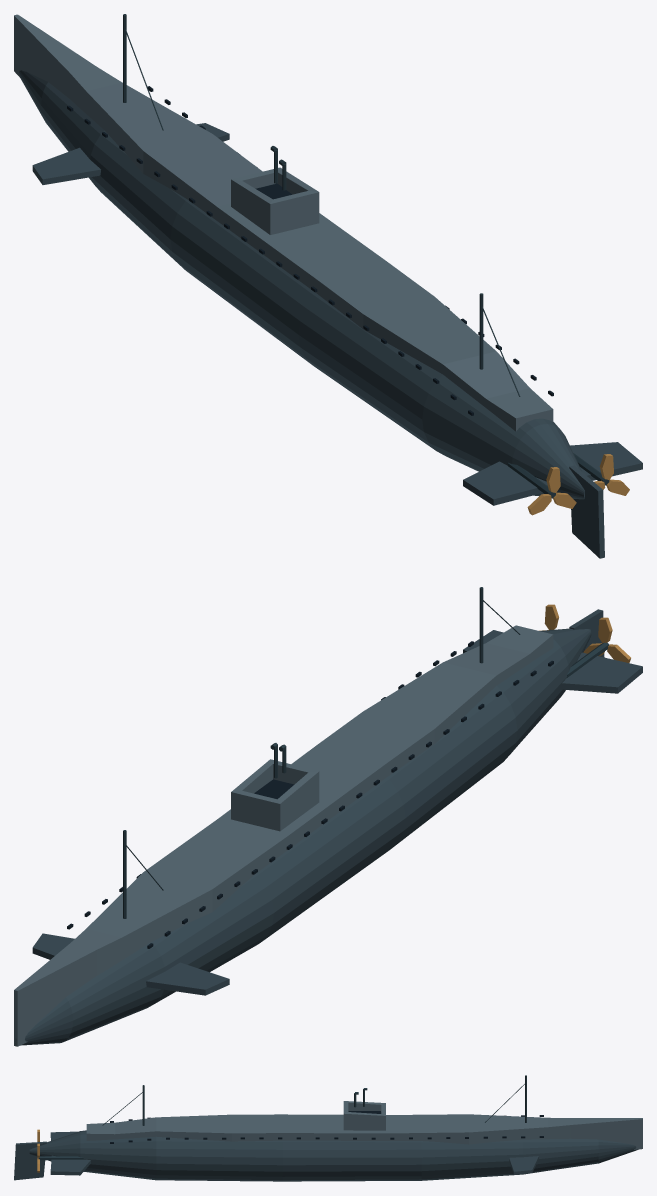
The model's file is archive-u9.glb.
The picture shows the model from 3 angles, top to bottom: view 1: azimuth 30°, elevation 25°; view 2: azimuth 150°, elevation 25°; view 3: azimuth 270°, elevation 25°; orthographic projection. The views are drawn at different scales.
Visible parts, largest first — view 1: archive-u9-pressure_hull-geometry, archive-u9-cruise_deck-geometry, archive-u9-submarine_sail-geometry, archive-u9-steering_rudder_0-geometry, archive-u9-archive-u9-geometry, archive-u9-stern_plane_-1-geometry, archive-u9-diving_plane_-1-geometry, archive-u9-stern_plane_1-geometry, archive-u9-screw_0-geometry, archive-u9-screw_1-geometry; view 2: archive-u9-pressure_hull-geometry, archive-u9-cruise_deck-geometry, archive-u9-submarine_sail-geometry, archive-u9-stern_plane_-1-geometry, archive-u9-archive-u9-geometry, archive-u9-diving_plane_-1-geometry, archive-u9-screw_0-geometry, archive-u9-diving_plane_1-geometry; view 3: archive-u9-pressure_hull-geometry, archive-u9-cruise_deck-geometry, archive-u9-submarine_sail-geometry, archive-u9-steering_rudder_0-geometry, archive-u9-archive-u9-geometry, archive-u9-stern_plane_1-geometry, archive-u9-diving_plane_1-geometry, archive-u9-screw_1-geometry.
Part boxes in pixels (<box>): archive-u9-pressure_hull-geometry: <box>19,70,584,499</box>; archive-u9-cruise_deck-geometry: <box>14,14,553,431</box>; archive-u9-submarine_sail-geometry: <box>231,146,319,234</box>; archive-u9-steering_rudder_0-geometry: <box>569,465,604,558</box>; archive-u9-archive-u9-geometry: <box>67,14,553,415</box>; archive-u9-stern_plane_-1-geometry: <box>463,461,547,505</box>; archive-u9-diving_plane_-1-geometry: <box>32,147,100,184</box>; archive-u9-stern_plane_1-geometry: <box>570,442,642,480</box>; archive-u9-screw_0-geometry: <box>507,462,576,515</box>; archive-u9-screw_1-geometry: <box>573,453,629,495</box>; archive-u9-pressure_hull-geometry: <box>15,628,591,1045</box>; archive-u9-cruise_deck-geometry: <box>14,625,553,1046</box>; archive-u9-submarine_sail-geometry: <box>231,743,319,831</box>; archive-u9-stern_plane_-1-geometry: <box>561,652,642,693</box>; archive-u9-archive-u9-geometry: <box>67,587,553,948</box>; archive-u9-diving_plane_-1-geometry: <box>146,962,229,995</box>; archive-u9-screw_0-geometry: <box>567,617,630,677</box>; archive-u9-diving_plane_1-geometry: <box>32,933,74,959</box>; archive-u9-pressure_hull-geometry: <box>29,1130,638,1181</box>; archive-u9-cruise_deck-geometry: <box>86,1114,642,1149</box>; archive-u9-submarine_sail-geometry: <box>343,1088,385,1130</box>; archive-u9-steering_rudder_0-geometry: <box>14,1141,46,1180</box>; archive-u9-archive-u9-geometry: <box>102,1075,543,1143</box>; archive-u9-stern_plane_1-geometry: <box>50,1155,90,1175</box>; archive-u9-diving_plane_1-geometry: <box>509,1156,538,1174</box>; archive-u9-screw_1-geometry: <box>37,1143,83,1172</box>.
Size of the model in its own units: 1.83 by 1.81 by 9.95.
